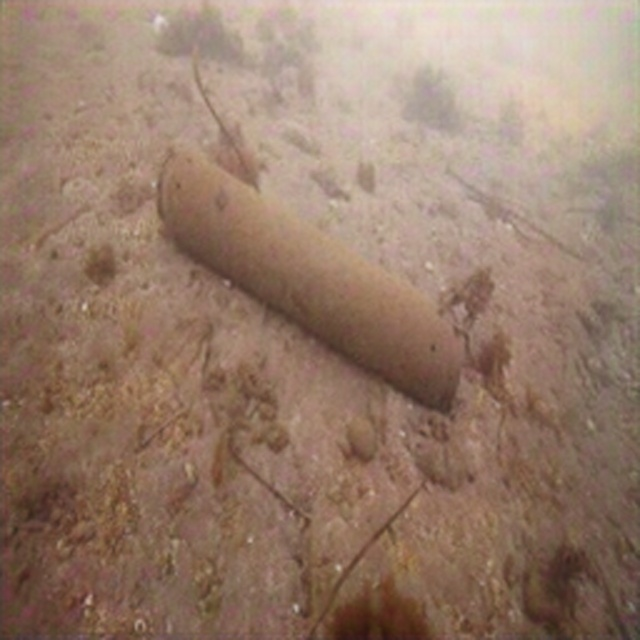mine: (153, 147, 467, 418)
